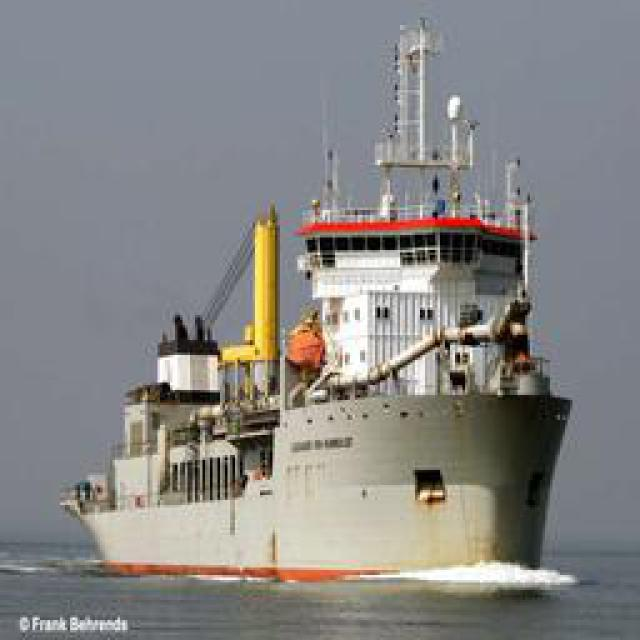Ship: (50, 10, 573, 598)
